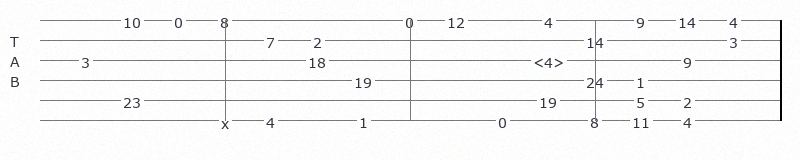0: (174, 13, 187, 27), (405, 13, 418, 27), (498, 113, 511, 127)
1: (359, 113, 372, 127), (636, 73, 649, 87)
10: (123, 13, 145, 27)
11: (632, 113, 654, 127)
12: (447, 13, 469, 27)
14: (586, 33, 608, 47), (678, 13, 700, 27)
18: (308, 53, 330, 67)
19: (354, 73, 376, 87), (539, 93, 561, 107)
2: (313, 33, 326, 47), (683, 93, 696, 107)
23: (123, 93, 145, 107)
24: (586, 73, 608, 87)
3: (81, 53, 94, 67), (729, 33, 742, 47)
4: (266, 113, 279, 127), (544, 13, 557, 27), (683, 113, 696, 127), (729, 13, 742, 27)
5: (636, 93, 649, 107)
7: (266, 33, 279, 47)
8: (220, 13, 233, 27), (590, 113, 603, 127)
9: (636, 13, 649, 27), (683, 53, 696, 67)
harmonic: (533, 53, 568, 67)
x: (221, 114, 233, 126)
